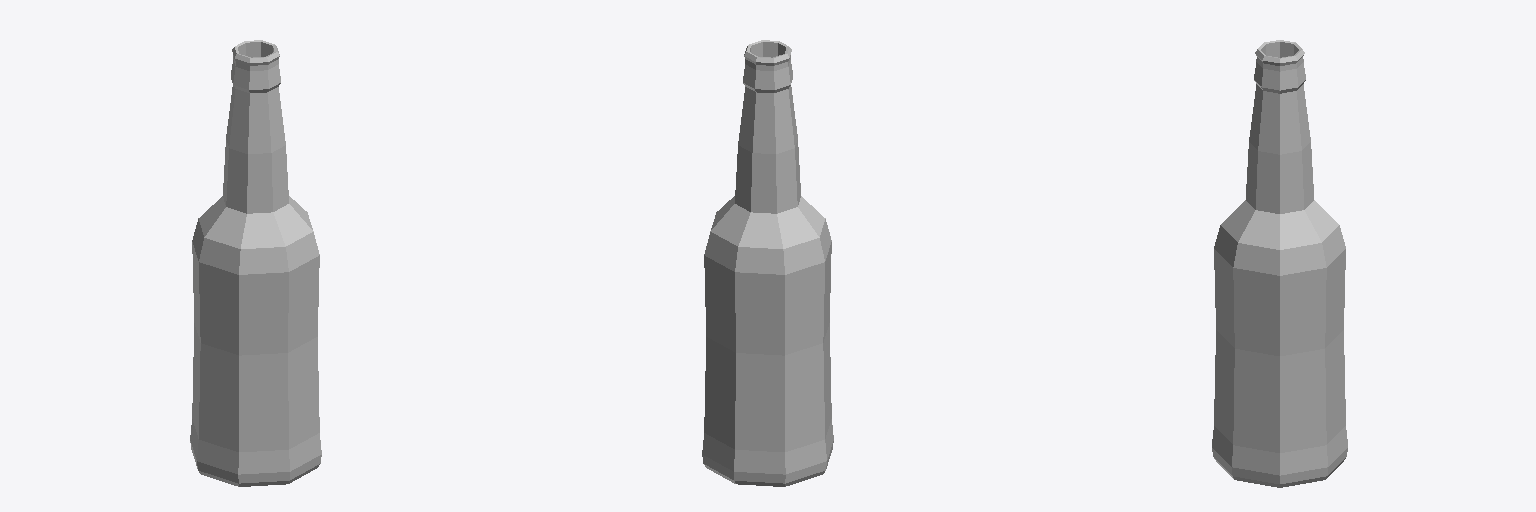
The model's file is Bottle.obj.
The picture shows the model from 3 angles: view 1: azimuth 30°, elevation 25°; view 2: azimuth 150°, elevation 25°; view 3: azimuth 270°, elevation 25°; orthographic projection.
Visible parts, largest first — view 1: textureEditorIsolateSelectSet pCylinder1, pCylinder1; view 2: textureEditorIsolateSelectSet pCylinder1, pCylinder1; view 3: textureEditorIsolateSelectSet pCylinder1, pCylinder1.
Boxes of the visible parts, x1,y1,x2,y2 form: textureEditorIsolateSelectSet pCylinder1: [190, 46, 321, 486]; pCylinder1: [235, 40, 277, 57]; textureEditorIsolateSelectSet pCylinder1: [702, 46, 833, 486]; pCylinder1: [746, 40, 788, 57]; textureEditorIsolateSelectSet pCylinder1: [1212, 49, 1347, 487]; pCylinder1: [1258, 40, 1301, 58].
Bounding box in the file's own units: 7.93 × 26.51 × 7.93.